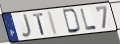7: (95, 5, 109, 30)
D: (62, 8, 83, 35)
I: (46, 10, 59, 36)
J: (21, 13, 33, 38)
L: (79, 8, 98, 31)
T: (32, 12, 46, 36)
